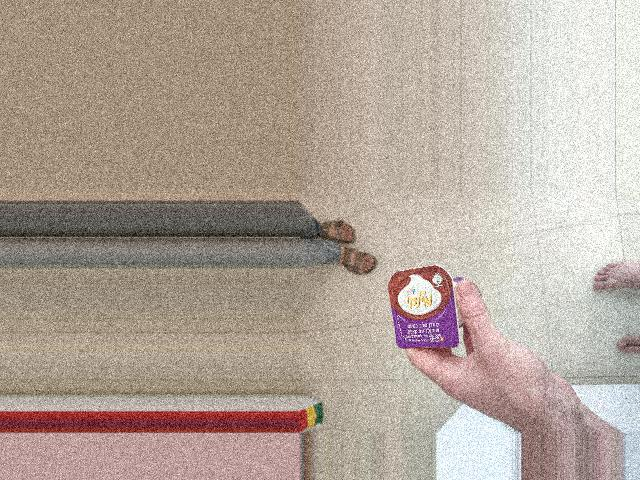milky: (380, 261, 484, 351)
